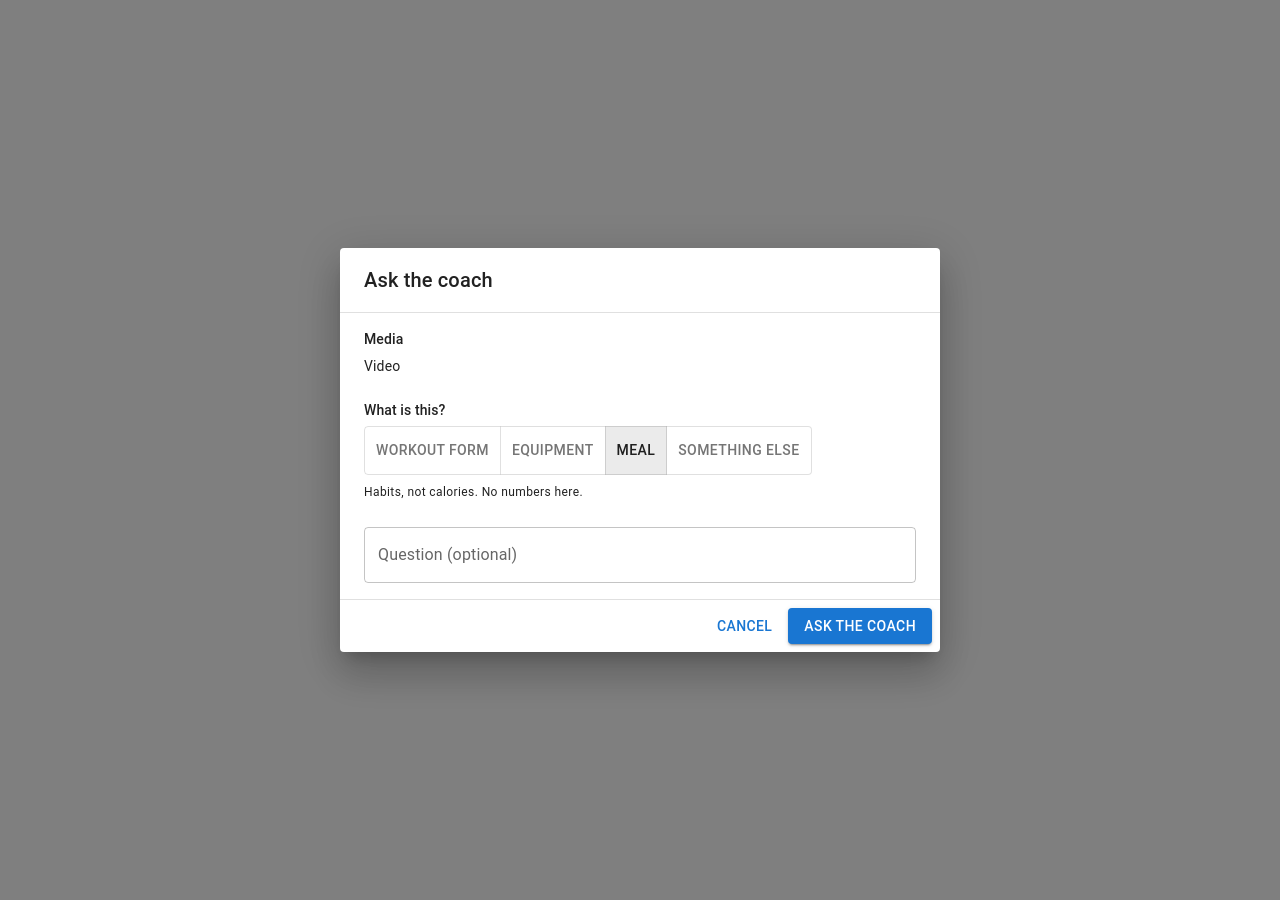
Test: AskAboutMediaDialog › renders the professional-care alert when the coach flags one
Click the button with test id "media-ask-button" at (860, 626), box x1=788 y1=608 x2=932 y2=644
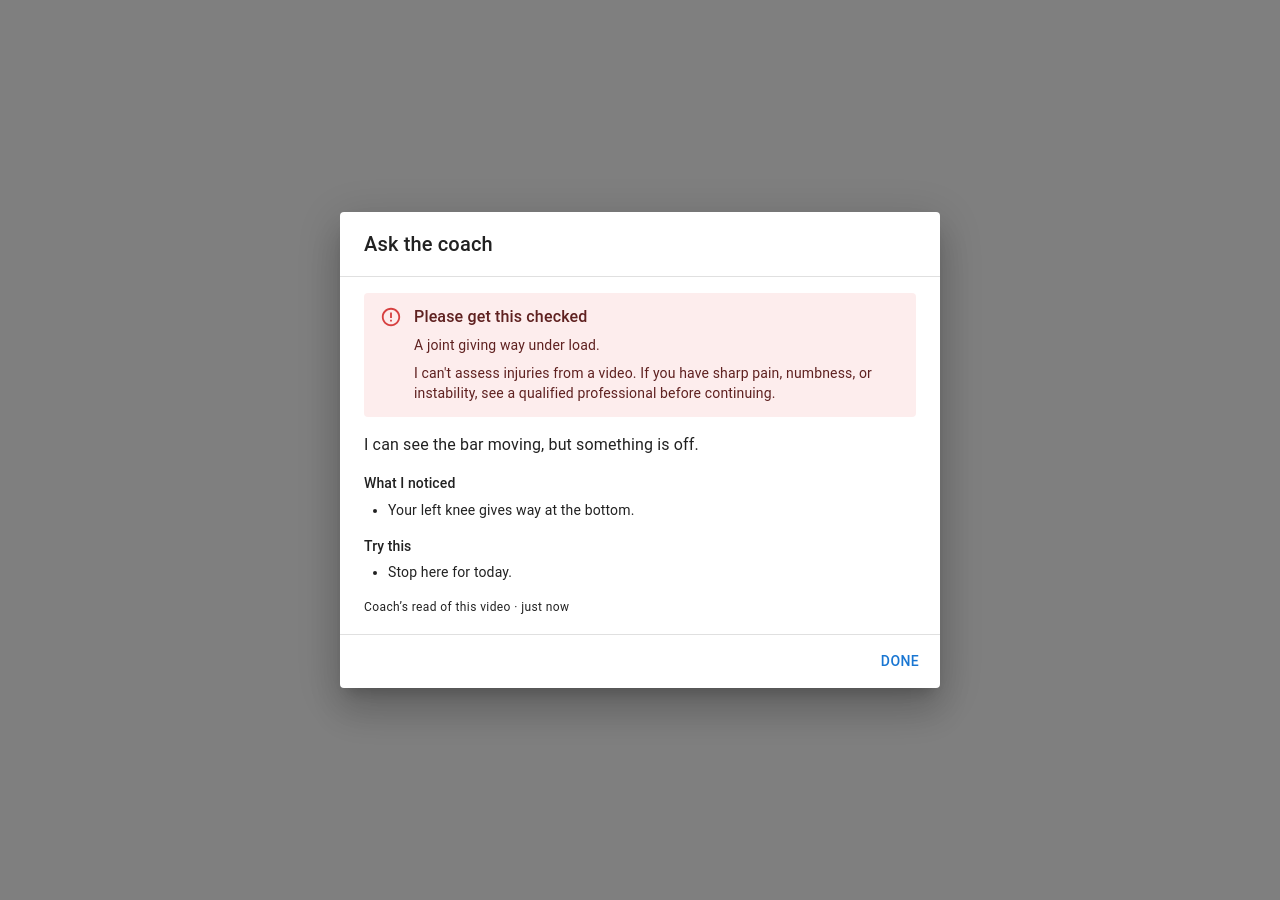
expect the message with test id "media-advice-safety" shows "see a qualified professional": met, box x1=414 y1=365 x2=872 y2=401
